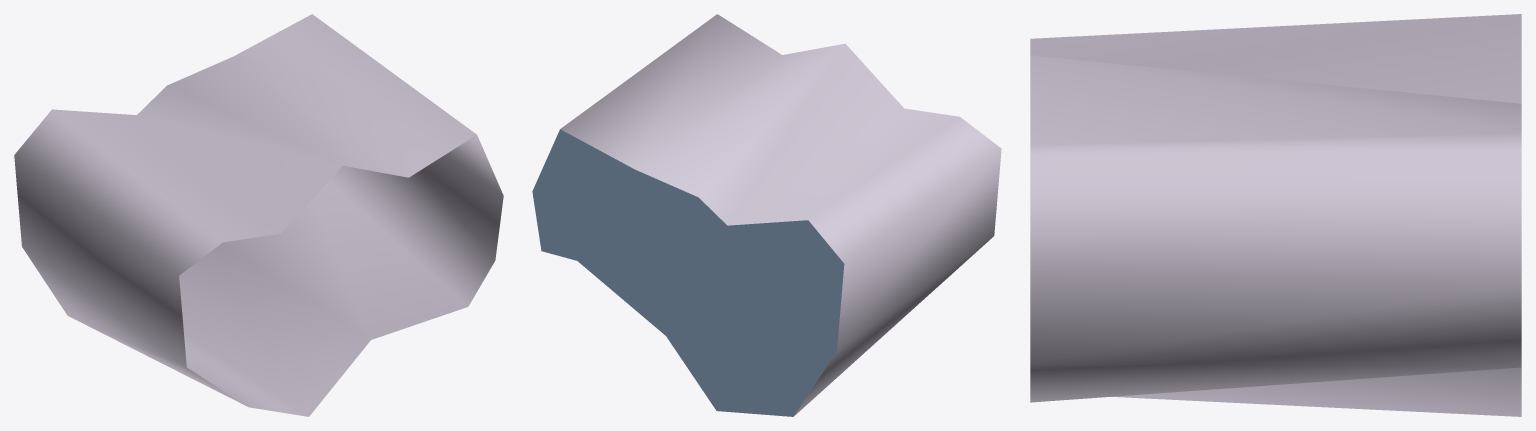
3 views of the same model, side by side, from view 1: azimuth 30°, elevation 25°; view 2: azimuth 150°, elevation 25°; view 3: azimuth 270°, elevation 25° (orthographic). The views are drawn at different scales.
Visible parts, largest first — view 1: Object08; view 2: Object08; view 3: Object08.
Part boxes in pixels (x1,y1,x2,y2): Object08: [14, 14, 503, 416]; Object08: [532, 14, 1001, 416]; Object08: [1030, 14, 1521, 416].
Bounding box in the file's own units: 49619 × 37291 × 43328.
